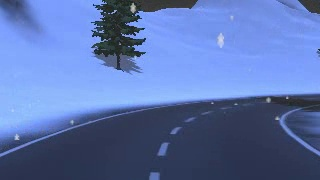Lane: (1, 93, 319, 179)
